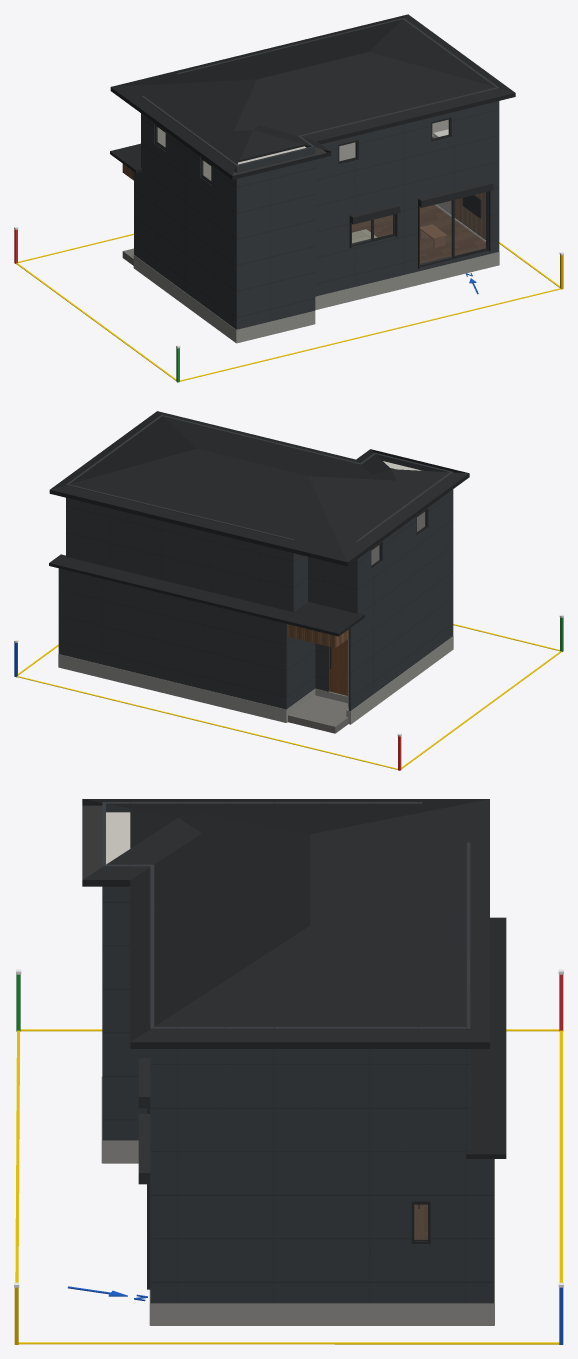
The picture shows the model from 3 angles, top to bottom: view 1: azimuth 30°, elevation 25°; view 2: azimuth 150°, elevation 25°; view 3: azimuth 270°, elevation 25°; orthographic projection. The views are drawn at different scales.
Parts seen in each view (by area): view 1: siding, roof, found, glass, floor, shutter, frame, lotline, wall, accent; view 2: siding, roof, found, tile, lotline, door, woodceil; view 3: siding, roof, found, lotline, shutter, soffit, ceiling.
Part boxes in pixels (bbox=[...]): siding: bbox=[134, 18, 499, 329]; roof: bbox=[110, 14, 515, 179]; found: bbox=[133, 252, 499, 343]; glass: bbox=[157, 120, 485, 264]; floor: bbox=[352, 136, 485, 263]; shutter: bbox=[349, 181, 493, 268]; frame: bbox=[155, 117, 488, 267]; lotline: bbox=[16, 233, 560, 381]; wall: bbox=[157, 119, 451, 214]; accent: bbox=[451, 192, 485, 240]; siding: bbox=[58, 414, 453, 710]; roof: bbox=[49, 411, 469, 636]; found: bbox=[58, 636, 453, 724]; tile: bbox=[288, 695, 348, 733]; lotline: bbox=[17, 624, 561, 769]; door: bbox=[329, 640, 346, 695]; woodceil: bbox=[287, 624, 348, 648]; siding: bbox=[102, 802, 494, 1303]; roof: bbox=[82, 799, 506, 1158]; found: bbox=[101, 1077, 494, 1325]; lotline: bbox=[15, 1029, 562, 1344]; shutter: bbox=[138, 1058, 150, 1289]; soffit: bbox=[82, 805, 102, 879]; ceiling: bbox=[106, 812, 130, 864].
Bounding box in the file's own units: 14.14 × 6.95 × 10.42.
31 materials, 6 textured.
